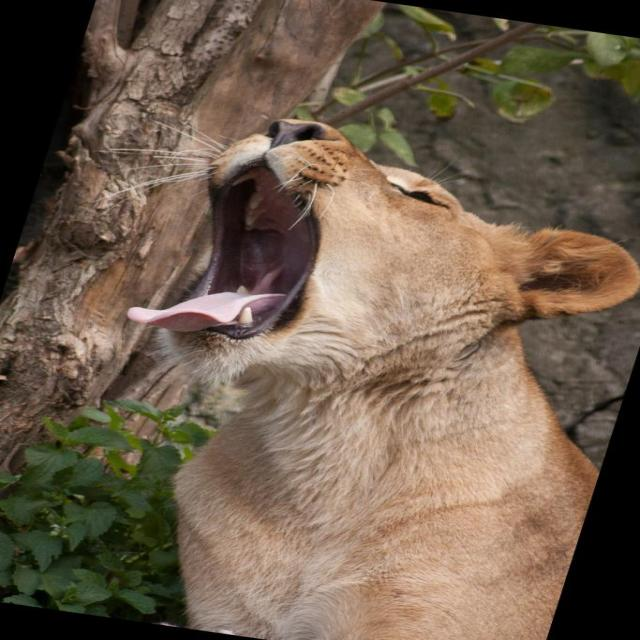Lion: (0, 92, 639, 639)
